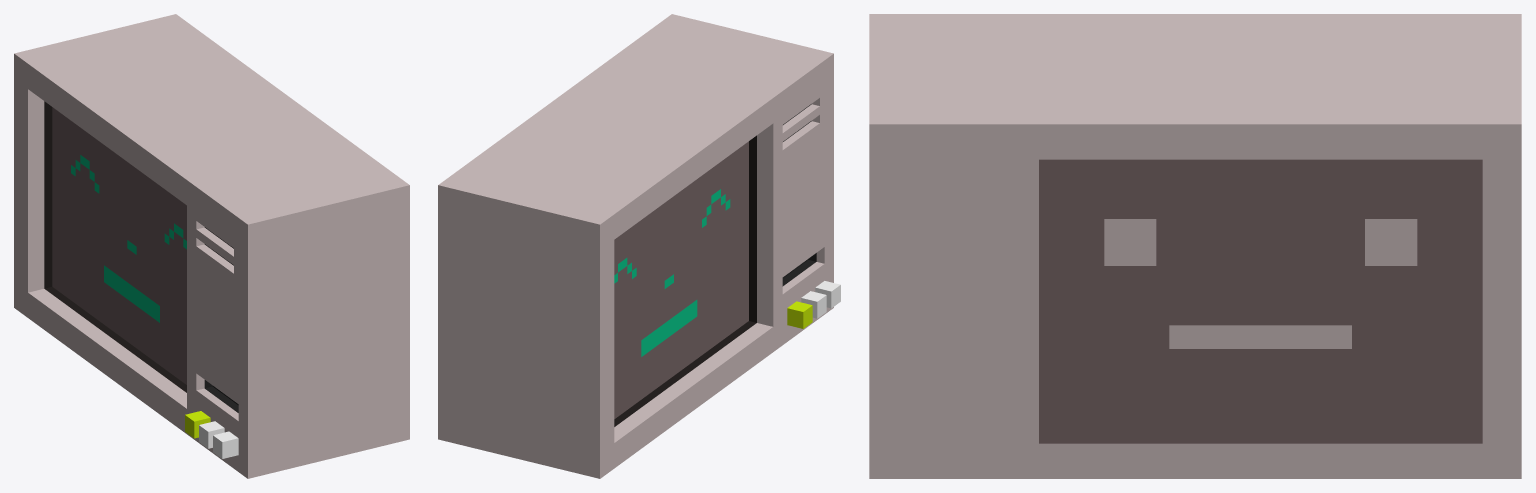
File: main.obj
The picture shows the model from 3 angles, left to right: view 1: azimuth 30°, elevation 25°; view 2: azimuth 150°, elevation 25°; view 3: azimuth 270°, elevation 25°; orthographic projection. The views are drawn at different scales.
Bounding box in the file's own units: 2.2 × 3 × 5.
Materials: 1 (1 with a texture image).
